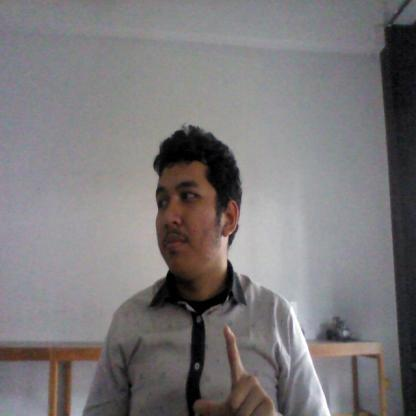L: (191, 286, 286, 416)
